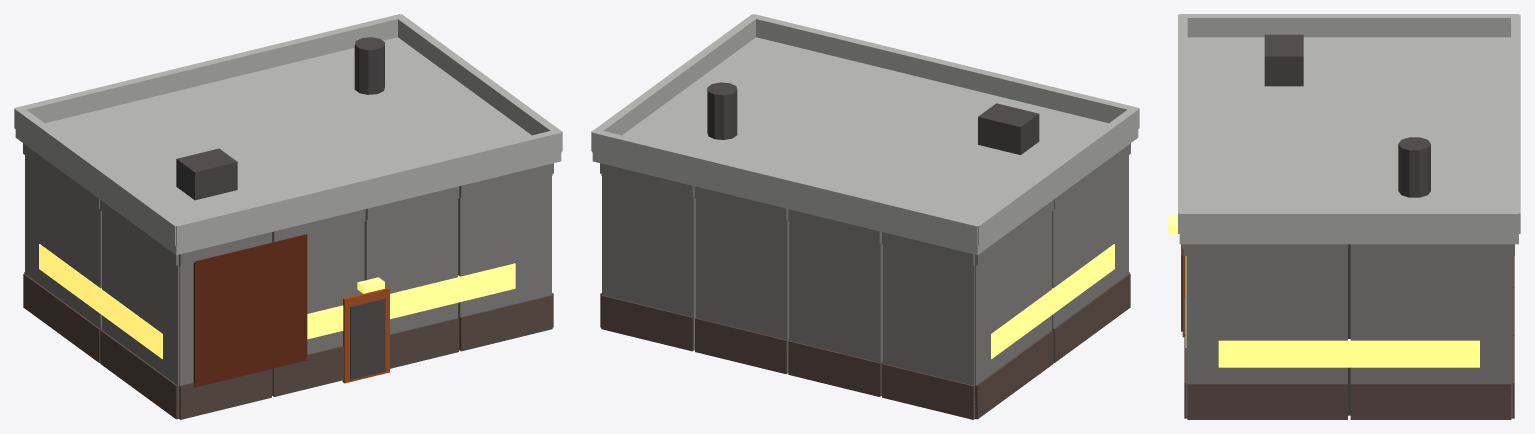
File: B_directors_house.glb
3 renders of one model, left to right at view 1: azimuth 30°, elevation 25°; view 2: azimuth 150°, elevation 25°; view 3: azimuth 270°, elevation 25°, orthographic. The views are drawn at different scales.
Visible parts, largest first — view 1: Cube.045, Cube.036, Cube.009, Cube.046, Cube.047, Cube.006, Cube.024, Cube.027, Cube.003, Cube.048, Cube.042, Cube.049 (+18 smaller); view 2: Cube.045, Cube.021, Cube.018, Cube.015, Cube.012, Cube.047, Cube.046, Cube.027, Cube.024, Cube.048, Cube.049, Cube.016 (+14 smaller); view 3: Cube.045, Cube.033, Cube.030, Cube.049, Cube.048, Cube.043, Cube.034, Cube.031, Cube.035, Cube.032, Cube.050, Cube.047 (+5 smaller).
Part boxes in pixels (left/top/right/bottom): Cube.045: left=15, top=37, right=561, bottom=255; Cube.036: left=193, top=234, right=307, bottom=387; Cube.009: left=458, top=176, right=551, bottom=349; Cube.046: left=172, top=129, right=561, bottom=245; Cube.047: left=15, top=14, right=403, bottom=123; Cube.006: left=364, top=198, right=457, bottom=334; Cube.024: left=102, top=212, right=178, bottom=418; Cube.027: left=25, top=155, right=101, bottom=328; Cube.003: left=272, top=221, right=364, bottom=395; Cube.048: left=14, top=108, right=181, bottom=245; Cube.042: left=307, top=263, right=515, bottom=339; Cube.049: left=394, top=14, right=562, bottom=151; Cube.045: left=592, top=37, right=1138, bottom=255; Cube.021: left=602, top=176, right=695, bottom=350; Cube.018: left=696, top=198, right=789, bottom=373; Cube.015: left=789, top=221, right=882, bottom=363; Cube.012: left=883, top=244, right=974, bottom=418; Cube.047: left=592, top=129, right=980, bottom=245; Cube.046: left=750, top=14, right=1138, bottom=123; Cube.027: left=975, top=212, right=1051, bottom=416; Cube.024: left=1052, top=155, right=1128, bottom=329; Cube.048: left=971, top=108, right=1139, bottom=245; Cube.049: left=591, top=14, right=755, bottom=151; Cube.016: left=788, top=340, right=882, bottom=396; Cube.045: left=1179, top=37, right=1518, bottom=244; Cube.033: left=1350, top=257, right=1511, bottom=383; Cube.030: left=1187, top=257, right=1347, bottom=383; Cube.049: left=1179, top=210, right=1518, bottom=234; Cube.048: left=1179, top=14, right=1518, bottom=37; Cube.043: left=1218, top=339, right=1479, bottom=367; Cube.034: left=1350, top=383, right=1511, bottom=419; Cube.031: left=1187, top=383, right=1347, bottom=419; Cube.035: left=1350, top=244, right=1511, bottom=257; Cube.032: left=1187, top=244, right=1347, bottom=257; Cube.050: left=1264, top=34, right=1303, bottom=86; Cube.047: left=1511, top=14, right=1520, bottom=233.
Bounding box in the file's own units: 14.5 × 8.1 × 10.8.
